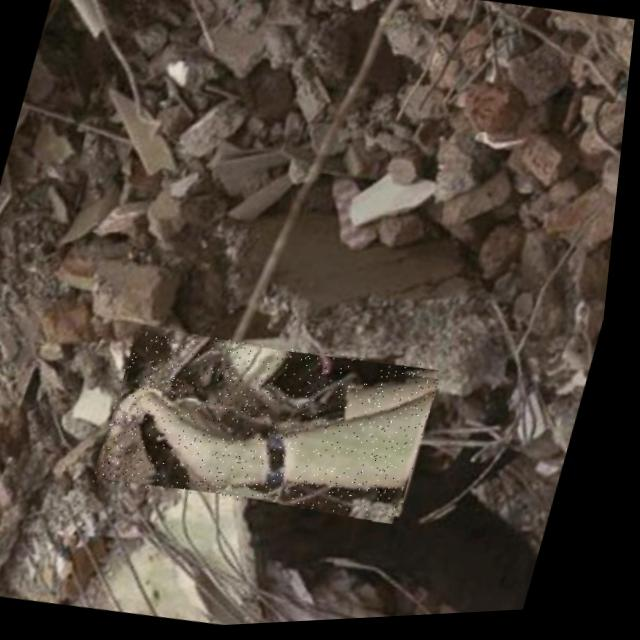Person in Rubble: (99, 315, 455, 537)
